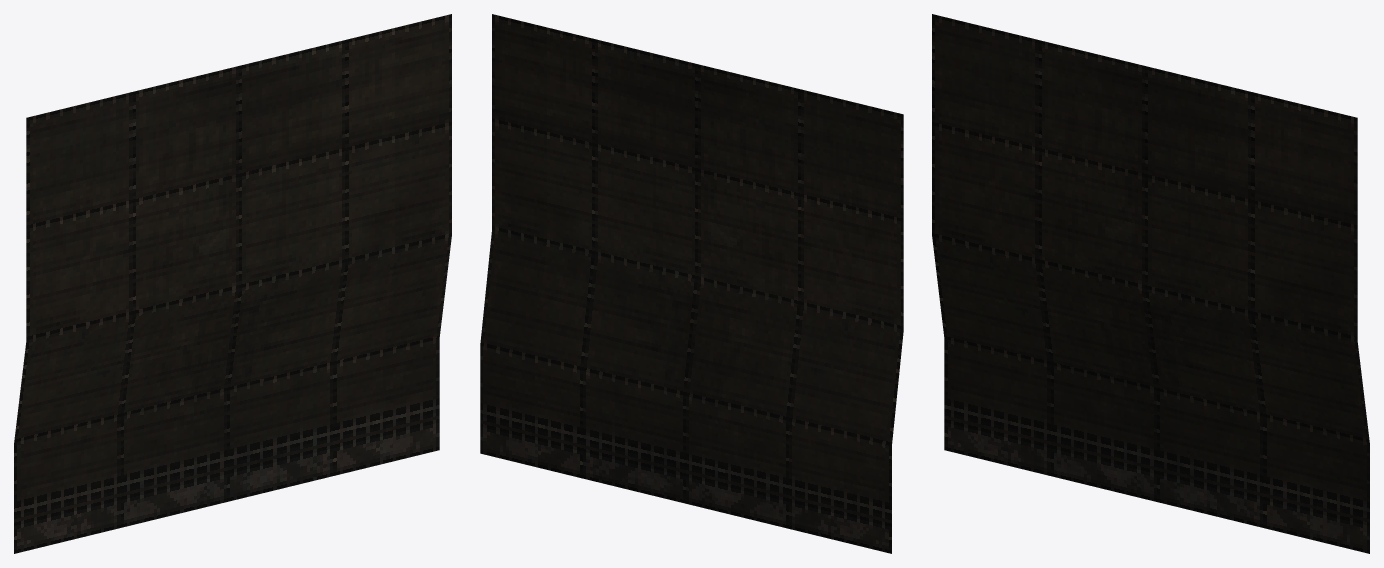
Rendered from wall_3.glb.
3 renders of one model, left to right at view 1: azimuth 30°, elevation 25°; view 2: azimuth 150°, elevation 25°; view 3: azimuth 330°, elevation 25°, orthographic. The views are drawn at different scales.
Visible parts, largest first — view 1: wall_3; view 2: wall_3; view 3: wall_3.
Boxes of the visible parts, x1,y1,x2,y2 form: wall_3: (14,14,451,553); wall_3: (480,14,903,553); wall_3: (932,14,1369,553).
Size of the model in its own units: 2 by 2 by 0.1.
1 material, 1 textured.
